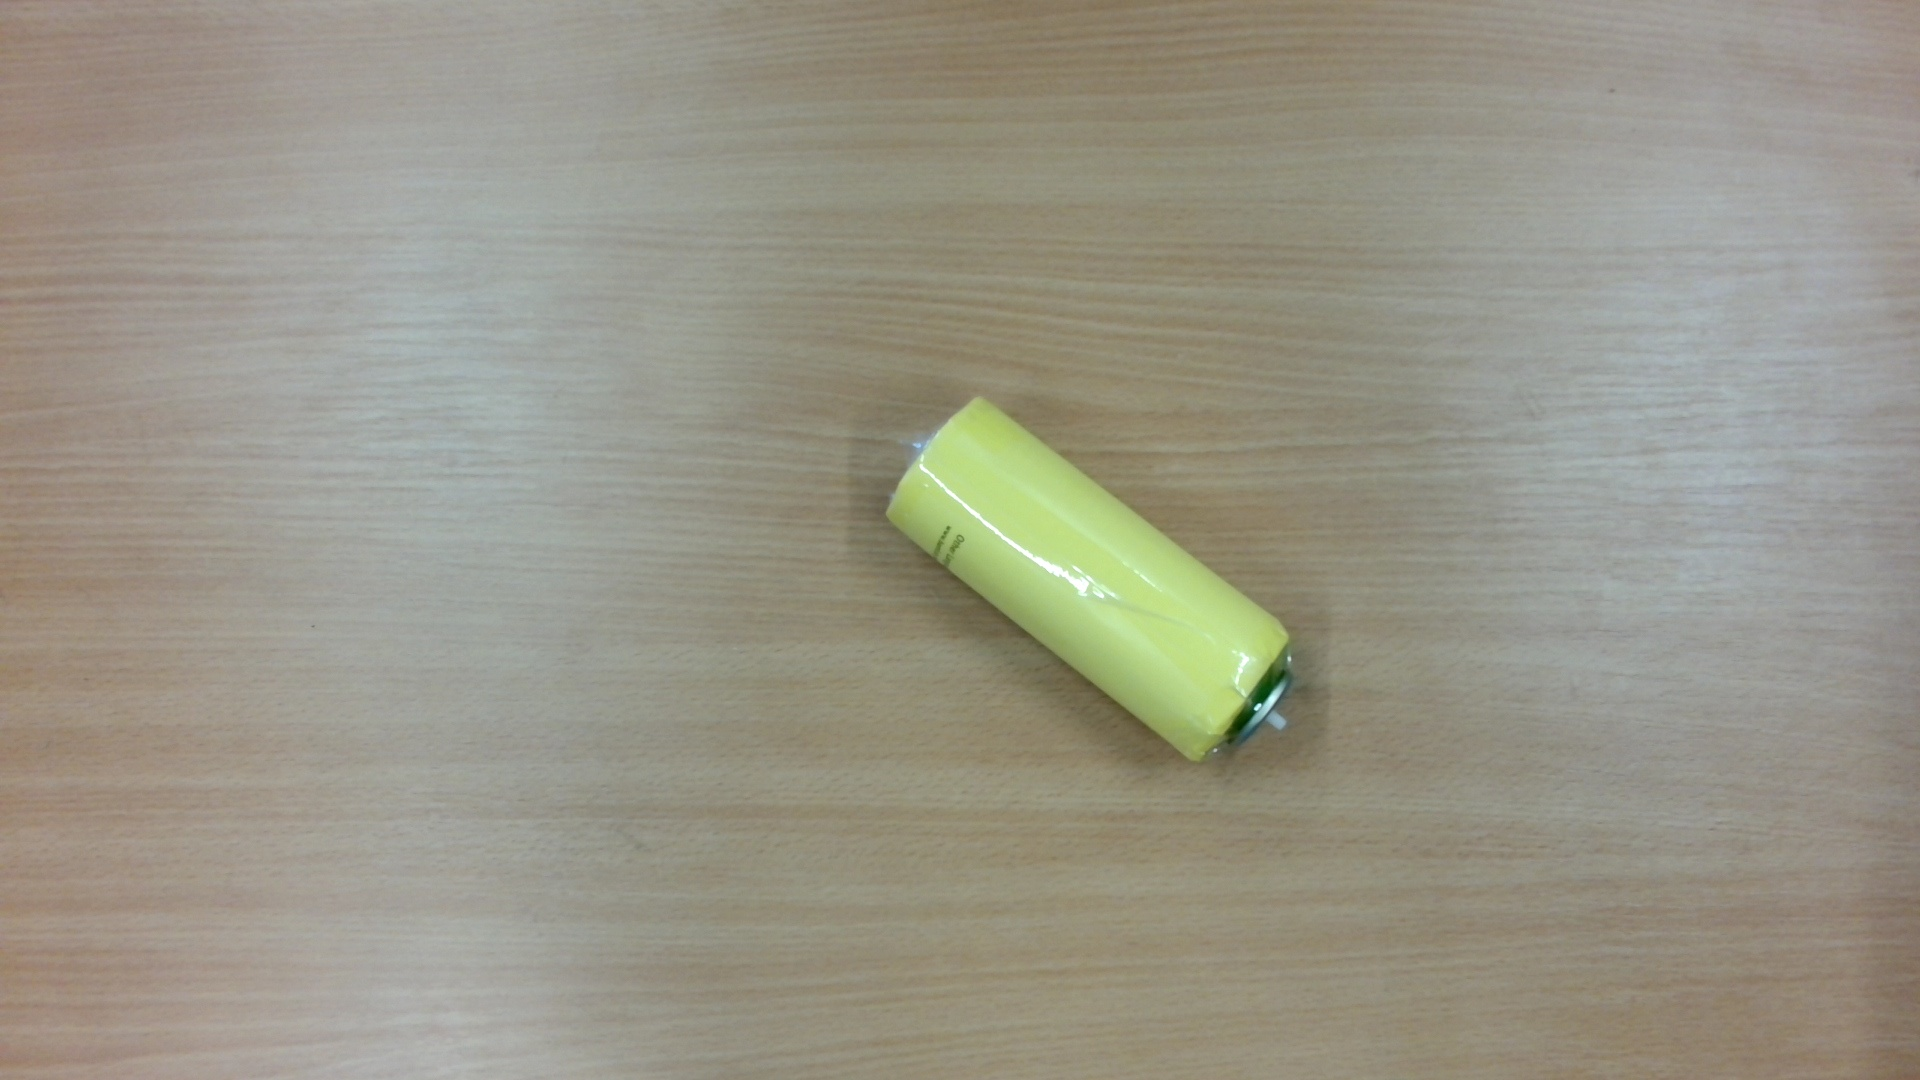Cylinder: (868, 385, 1319, 783)
